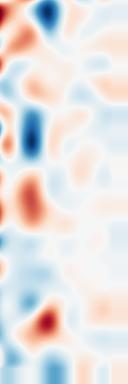filament: (0, 170, 63, 236)
